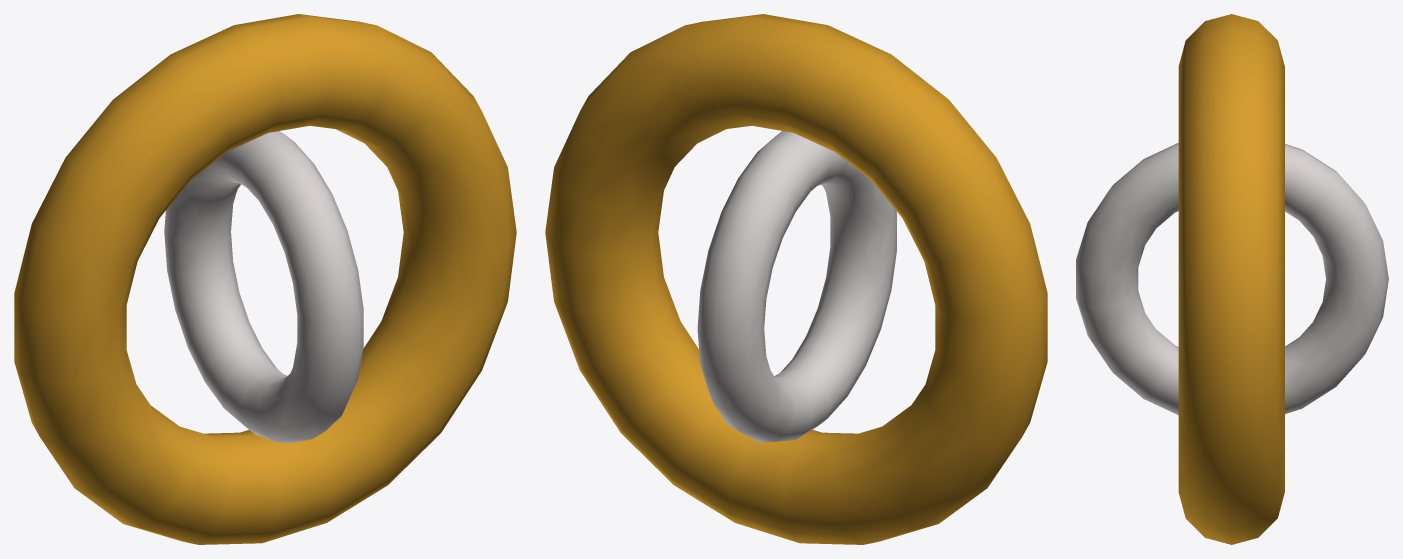
3 views of the same model, side by side, from view 1: azimuth 30°, elevation 25°; view 2: azimuth 150°, elevation 25°; view 3: azimuth 270°, elevation 25° (orthographic). The views are drawn at different scales.
Parts seen in each view (by area): view 1: Torus, Torus.001; view 2: Torus, Torus.001; view 3: Torus, Torus.001.
Part boxes in pixels (<box>): Torus: <box>14,14,516,544</box>; Torus.001: <box>164,131,363,443</box>; Torus: <box>545,14,1047,544</box>; Torus.001: <box>697,131,896,442</box>; Torus: <box>1178,14,1284,544</box>; Torus.001: <box>1076,143,1388,415</box>.
Size of the model in its own units: 2.49 by 1.47 by 2.49.
